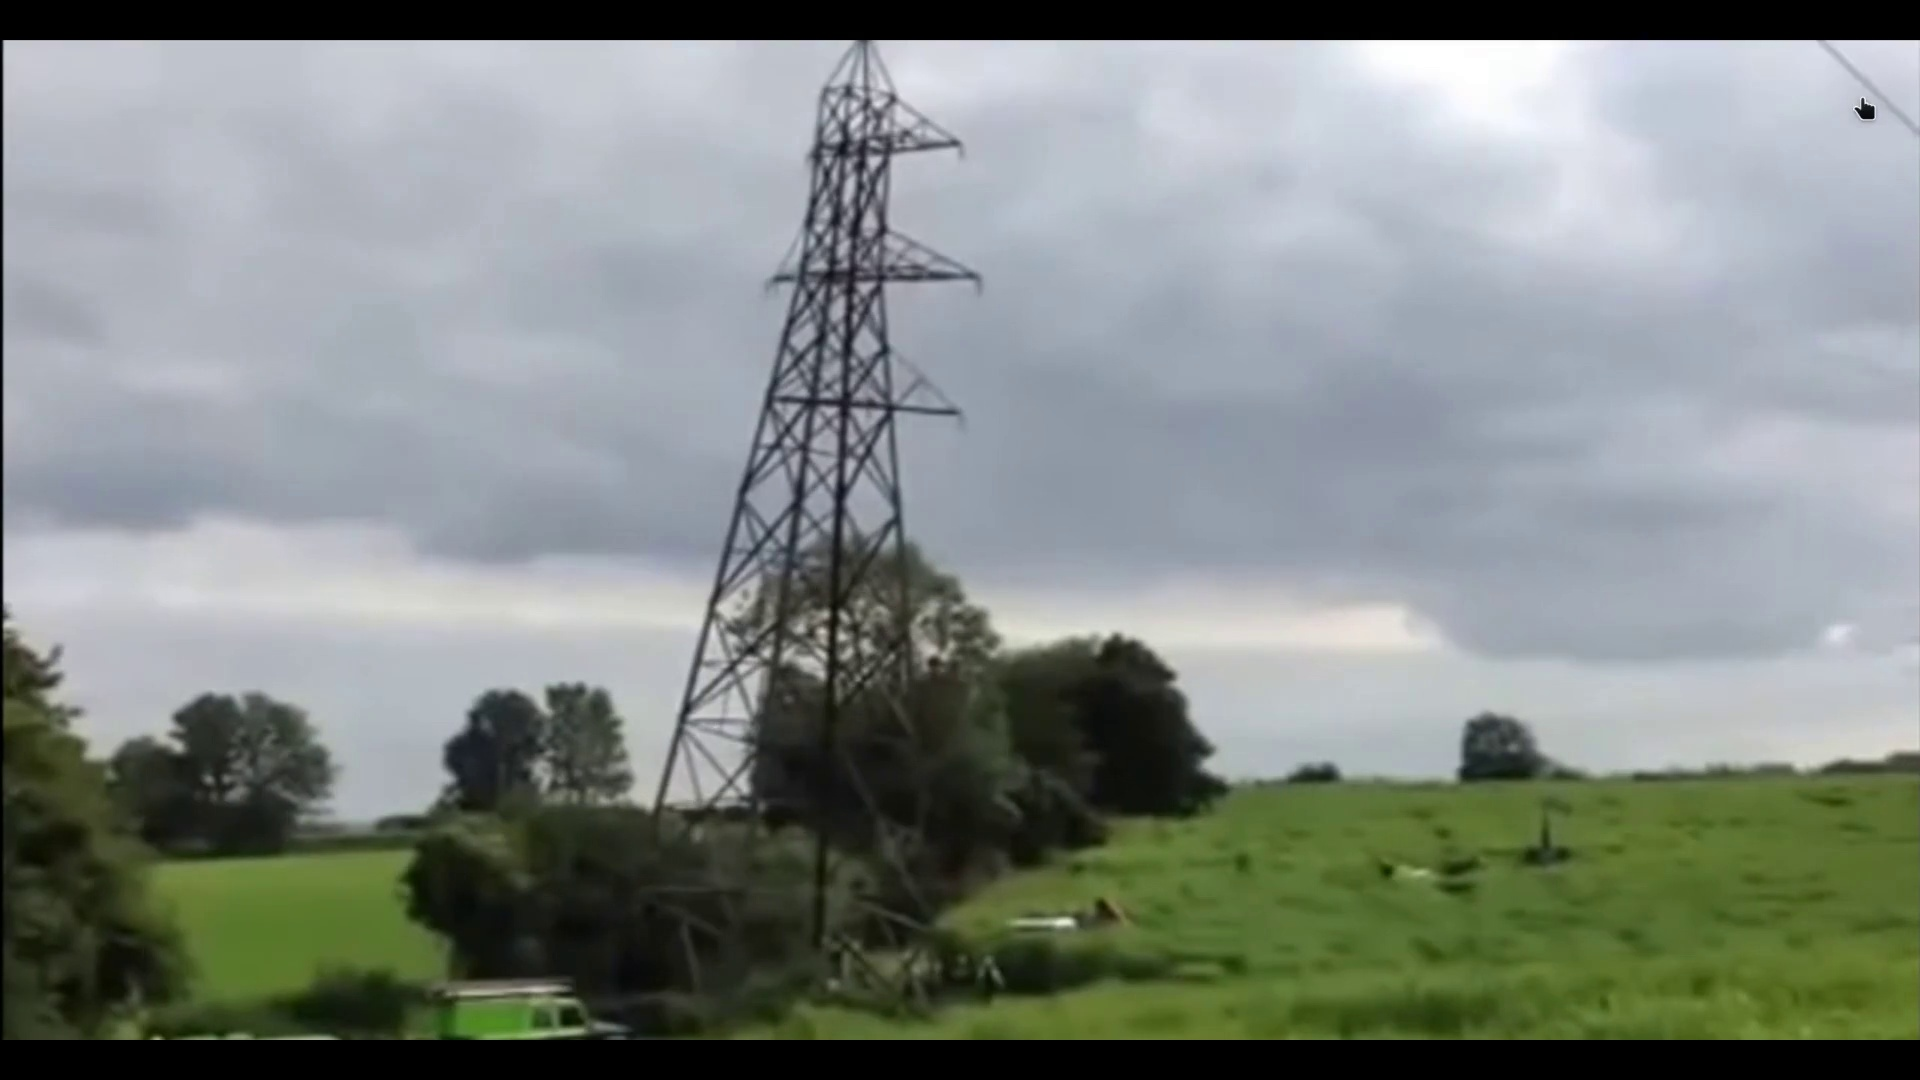tower_up: (624, 42, 1000, 814)
